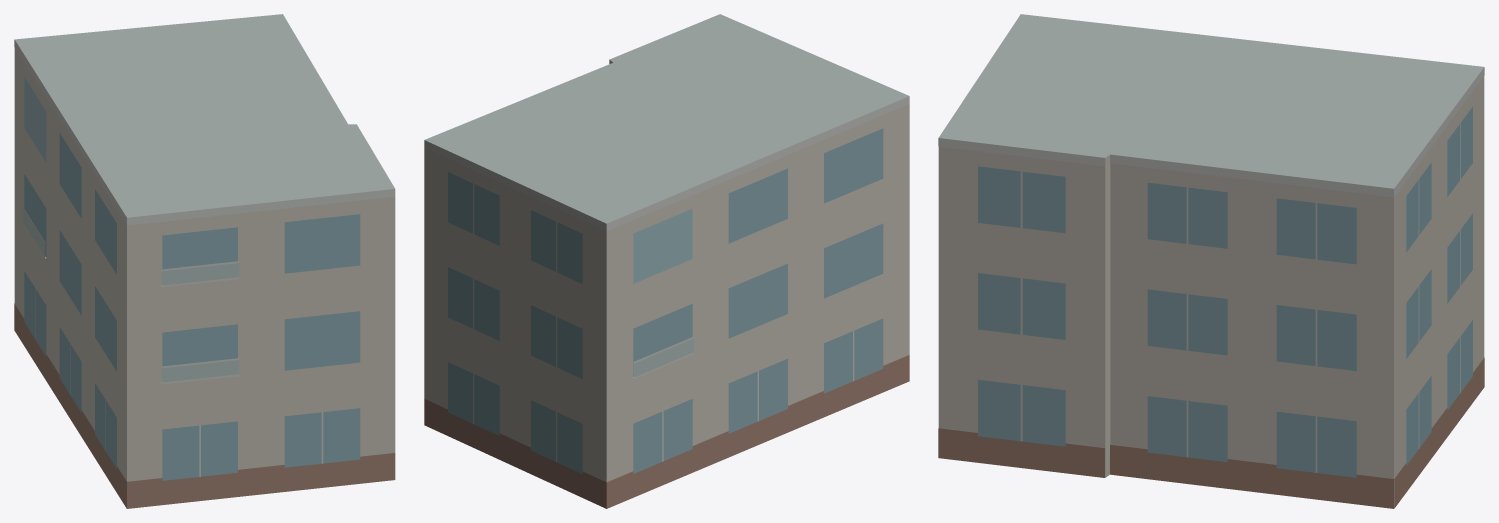
The model's file is survey-upis-32479449.glb.
3 views of the same model, side by side, from view 1: azimuth 30°, elevation 25°; view 2: azimuth 150°, elevation 25°; view 3: azimuth 270°, elevation 25° (orthographic). The views are drawn at different scales.
Visible parts, largest first — view 1: survey-upis-32479449.tmp; view 2: survey-upis-32479449.tmp; view 3: survey-upis-32479449.tmp.
Part boxes in pixels (bbox=[...]): survey-upis-32479449.tmp: bbox=[14, 14, 395, 508]; survey-upis-32479449.tmp: bbox=[424, 14, 909, 508]; survey-upis-32479449.tmp: bbox=[938, 14, 1484, 508].
Bounding box in the file's own units: 10.72 × 9.15 × 14.16.
